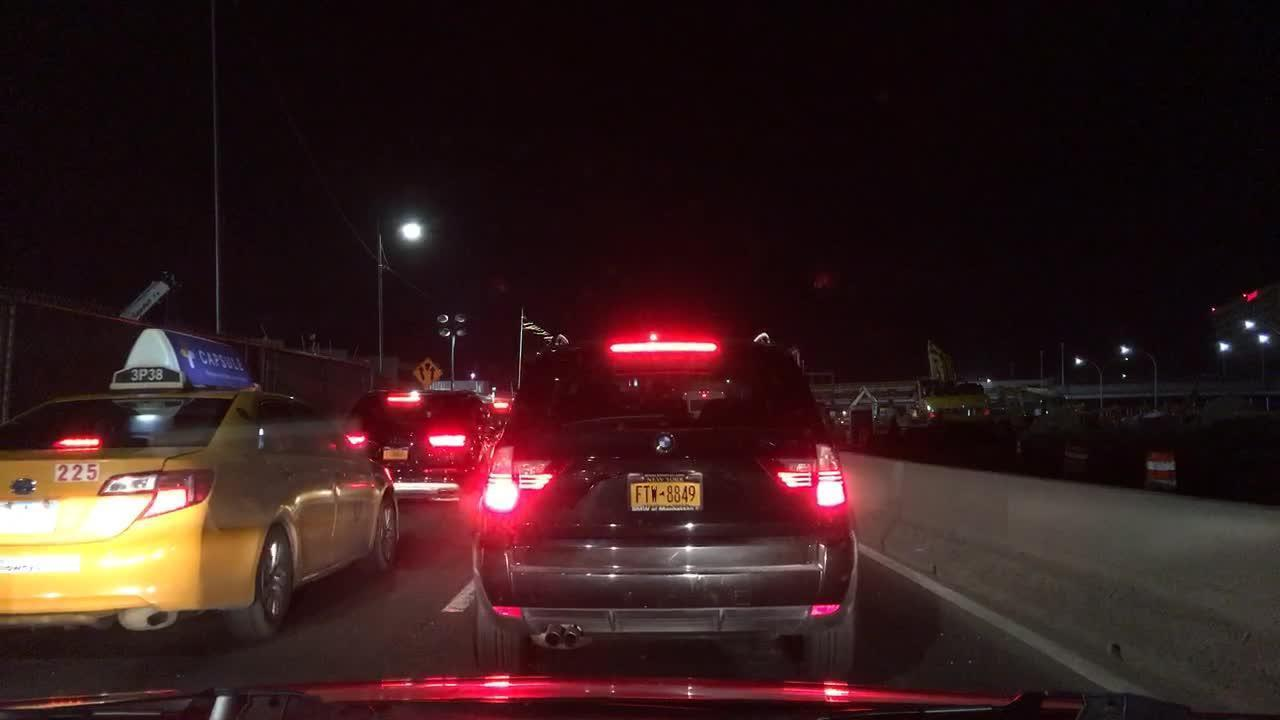Toyota: (8, 472, 46, 506)
bmw: (650, 427, 680, 459)
